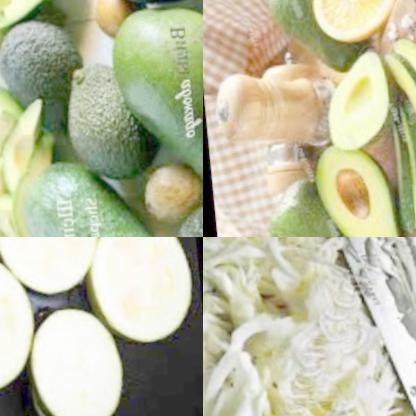avocado: (96, 8, 203, 204), (0, 159, 169, 237), (55, 51, 142, 185), (0, 28, 72, 166), (299, 137, 382, 237), (378, 25, 416, 237), (0, 75, 48, 237), (312, 45, 382, 156), (254, 180, 363, 237), (260, 0, 330, 68)
cabbage: (203, 237, 416, 416)
vegetable marrow: (73, 237, 199, 353), (15, 299, 122, 416), (0, 237, 110, 313), (0, 254, 39, 399)
